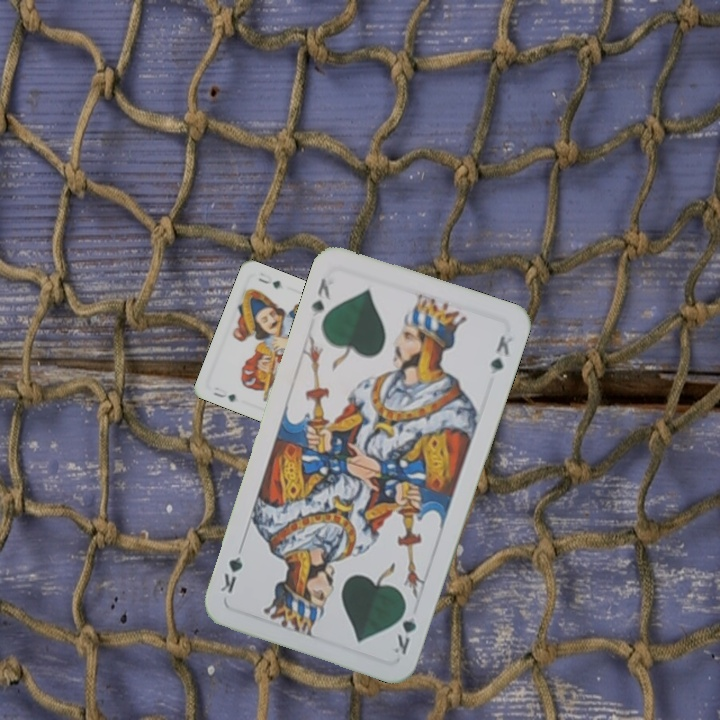GK: (388, 599, 419, 658), (307, 273, 333, 319)
GU: (209, 383, 238, 404)
